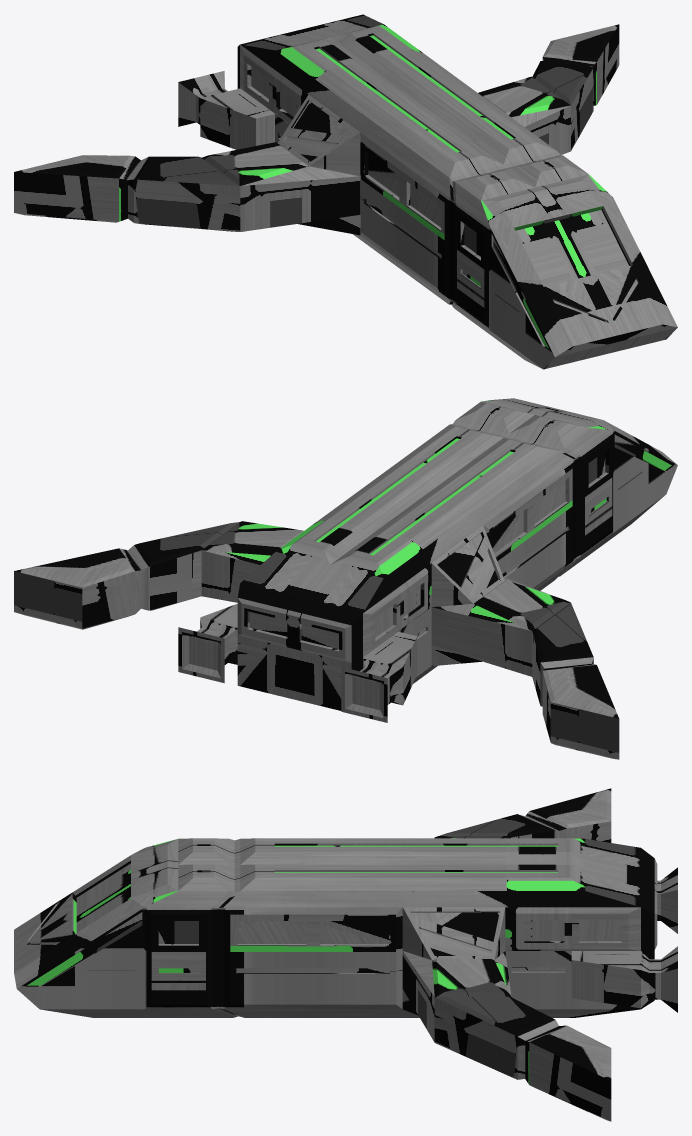
The model's file is transporter.obj.
3 renders of one model, top to bottom at view 1: azimuth 30°, elevation 25°; view 2: azimuth 150°, elevation 25°; view 3: azimuth 270°, elevation 25°, orthographic.
Parts seen in each view (by area): view 1: Cube; view 2: Cube; view 3: Cube.
Part boxes in pixels (left/top/right/bottom): Cube: left=14, top=14, right=677, bottom=369; Cube: left=14, top=398, right=677, bottom=759; Cube: left=14, top=788, right=677, bottom=1121.
Size of the model in its own units: 0.6152 by 0.1313 by 0.5896.
1 material, 1 textured.
